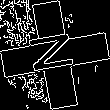N_E: (26, 31, 84, 79)
